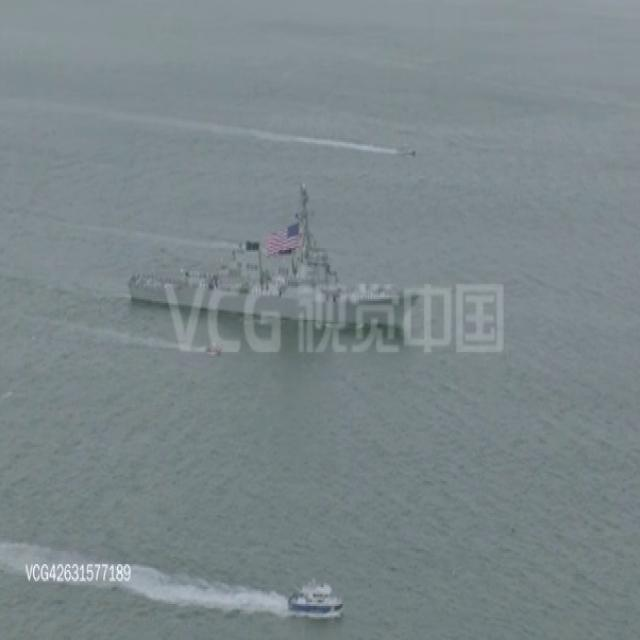houseboat: (288, 573, 344, 622), (395, 139, 417, 156)
navalvessels: (125, 181, 412, 331)
